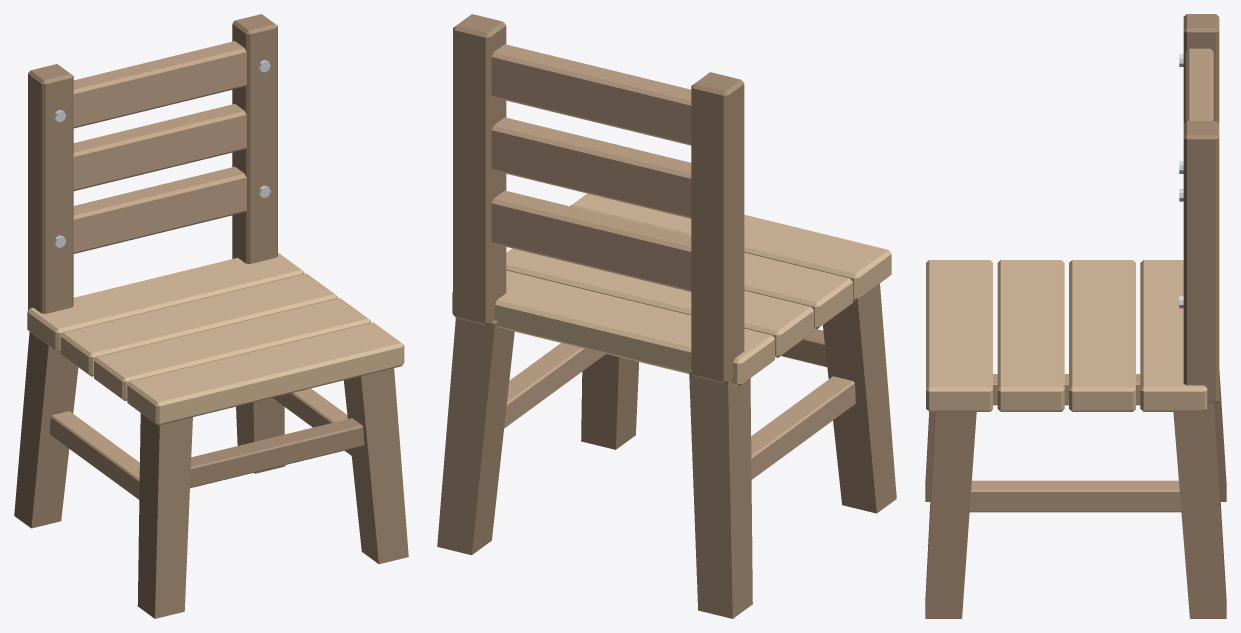
Rendered from chair.glb.
3 renders of one model, left to right at view 1: azimuth 30°, elevation 25°; view 2: azimuth 150°, elevation 25°; view 3: azimuth 270°, elevation 25°, orthographic. The views are drawn at different scales.
Parts seen in each view (by area): view 1: chair_seat_slat, chair_back_upright, chair_leg, chair_back_upright.001, chair_seat_slat.002, chair_seat_slat.001, chair_leg.002, chair_back_slat.002, chair_back_slat, chair_back_slat.001, chair_seat_slat.003, chair_leg.001 (+4 smaller); view 2: chair_back_upright, chair_back_upright.001, chair_leg.001, chair_leg.003, chair_seat_slat.003, chair_back_slat.001, chair_back_slat.002, chair_back_slat, chair_leg, chair_seat_slat, chair_seat_slat.002, chair_leg.002 (+4 smaller); view 3: chair_seat_slat.001, chair_seat_slat, chair_seat_slat.002, chair_back_upright.001, chair_leg.003, chair_leg.002, chair_seat_slat.003, chair_side_stretcher.001, chair_back_slat.002, chair_back_upright, chair_leg.001, chair_leg (+1 smaller).
Boxes of the visible parts, x1,y1,x2,y2 form: chair_seat_slat: (127, 322, 404, 425); chair_back_upright: (28, 64, 73, 313); chair_leg: (137, 413, 192, 618); chair_back_upright.001: (232, 14, 277, 263); chair_seat_slat.002: (60, 273, 337, 376); chair_seat_slat.001: (94, 298, 370, 400); chair_leg.002: (344, 368, 408, 564); chair_back_slat.002: (73, 41, 246, 128); chair_back_slat: (73, 166, 246, 253); chair_back_slat.001: (73, 104, 246, 190); chair_seat_slat.003: (27, 252, 304, 352); chair_leg.001: (14, 332, 78, 528); chair_back_upright: (691, 72, 744, 383); chair_back_upright.001: (453, 14, 506, 325); chair_leg.001: (689, 370, 752, 618); chair_leg.003: (437, 318, 514, 555); chair_seat_slat.003: (452, 270, 774, 386); chair_back_slat.001: (491, 117, 691, 218); chair_back_slat.002: (491, 44, 691, 145); chair_back_slat: (491, 190, 691, 291); chair_leg: (823, 283, 896, 513); chair_seat_slat: (570, 193, 891, 300); chair_seat_slat.002: (506, 248, 813, 357); chair_leg.002: (581, 354, 638, 449); chair_seat_slat.001: (997, 260, 1064, 411); chair_seat_slat: (926, 260, 992, 411); chair_seat_slat.002: (1069, 260, 1135, 411); chair_back_upright.001: (1183, 121, 1219, 403); chair_leg.003: (1173, 403, 1226, 618); chair_leg.002: (925, 412, 976, 618); chair_seat_slat.003: (1140, 260, 1207, 411); chair_side_stretcher.001: (969, 480, 1181, 512); chair_back_slat.002: (1186, 48, 1213, 121); chair_back_upright: (1183, 14, 1219, 123); chair_leg.001: (1215, 370, 1226, 501); chair_leg: (925, 412, 934, 501).
Size of the model in its own units: 0.571 by 0.96 by 0.5486.
